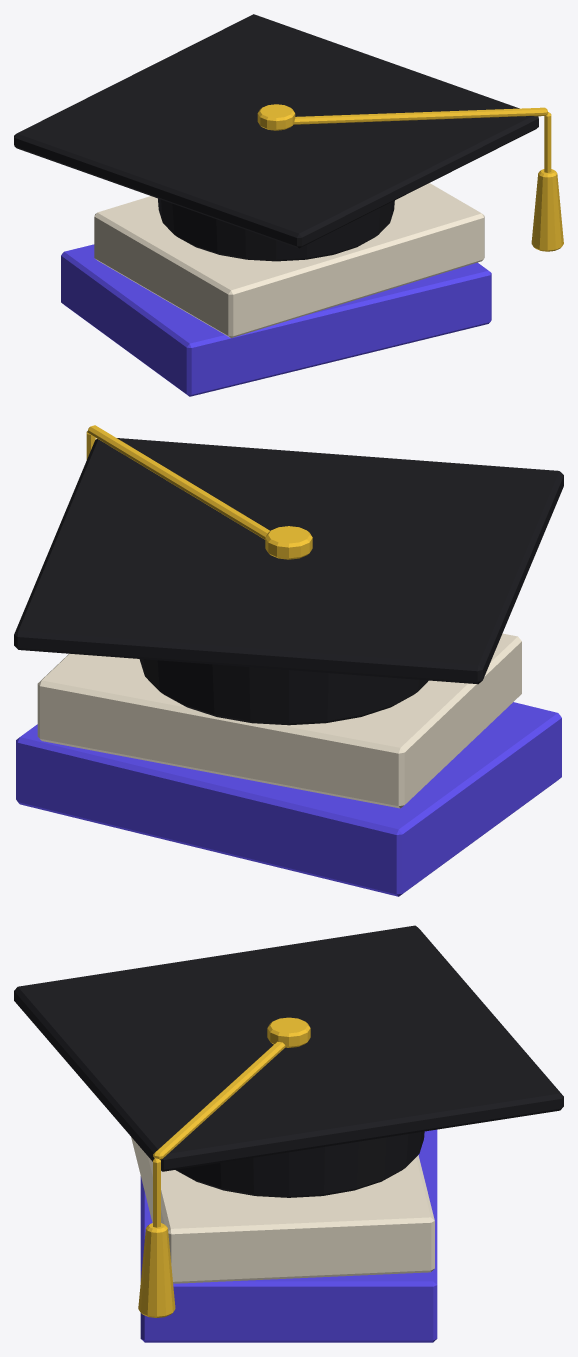
File: lesson-folk.glb
3 views of the same model, one above another, from view 1: azimuth 30°, elevation 25°; view 2: azimuth 150°, elevation 25°; view 3: azimuth 270°, elevation 25° (orthographic). The views are drawn at different scales.
Parts seen in each view (by area): view 1: lesson-folk.cap, lesson-folk.book-cream, lesson-folk.book-purple, lesson-folk.tassel; view 2: lesson-folk.cap, lesson-folk.book-purple, lesson-folk.book-cream, lesson-folk.tassel; view 3: lesson-folk.cap, lesson-folk.book-cream, lesson-folk.book-purple, lesson-folk.tassel.
Part boxes in pixels (bbox=[...]): lesson-folk.cap: bbox=[14, 14, 538, 261]; lesson-folk.book-cream: bbox=[94, 183, 484, 338]; lesson-folk.book-purple: bbox=[61, 244, 491, 396]; lesson-folk.tassel: bbox=[257, 104, 563, 251]; lesson-folk.cap: bbox=[14, 438, 563, 725]; lesson-folk.book-purple: bbox=[16, 702, 561, 896]; lesson-folk.book-cream: bbox=[37, 633, 521, 808]; lesson-folk.tassel: bbox=[86, 425, 312, 559]; lesson-folk.cap: bbox=[14, 925, 563, 1197]; lesson-folk.book-cream: bbox=[131, 1137, 434, 1283]; lesson-folk.book-purple: bbox=[140, 1129, 437, 1342]; lesson-folk.tassel: bbox=[138, 1017, 310, 1317].
Bounding box in the file's own units: 0.6421 × 0.2865 × 0.6121.
